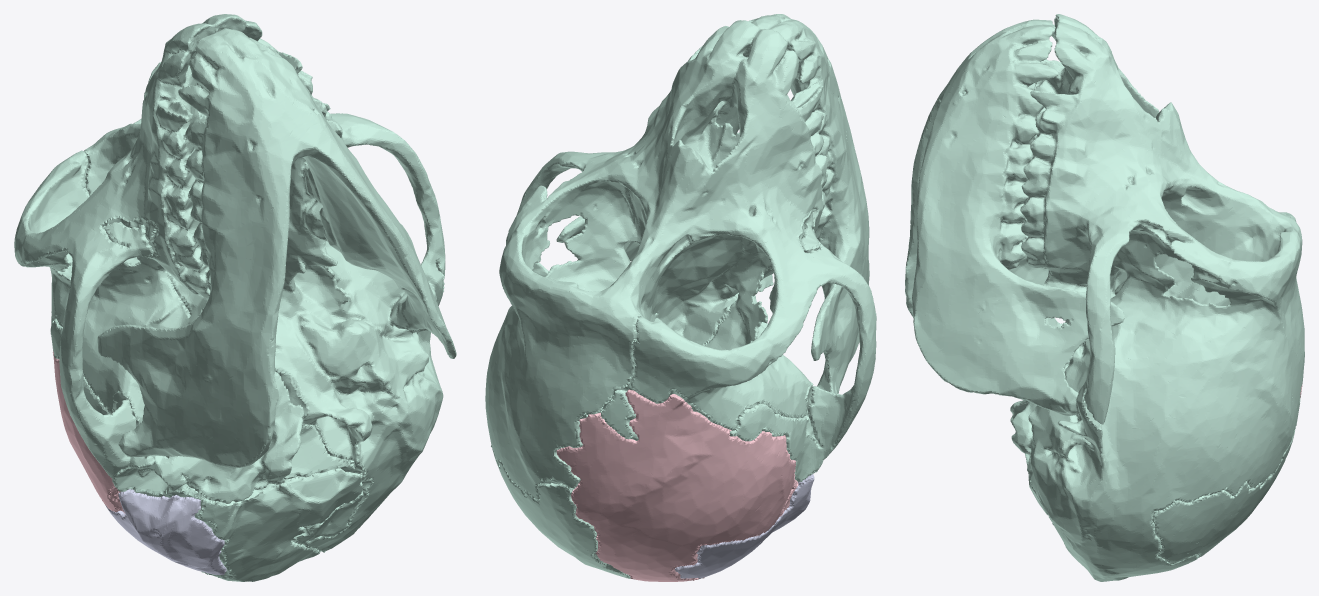
File: 102021_colored.glb
3 views of the same model, side by side, from view 1: azimuth 30°, elevation 25°; view 2: azimuth 150°, elevation 25°; view 3: azimuth 270°, elevation 25° (orthographic). The views are drawn at different scales.
Visible parts, largest first — view 1: world; view 2: world; view 3: world.
Part boxes in pixels (box(x1,y1,x2,y2)): world: box(14, 14, 456, 581); world: box(485, 14, 876, 581); world: box(905, 14, 1304, 581).
Bounding box in the file's own units: 0.6889 × 1 × 0.7049.
